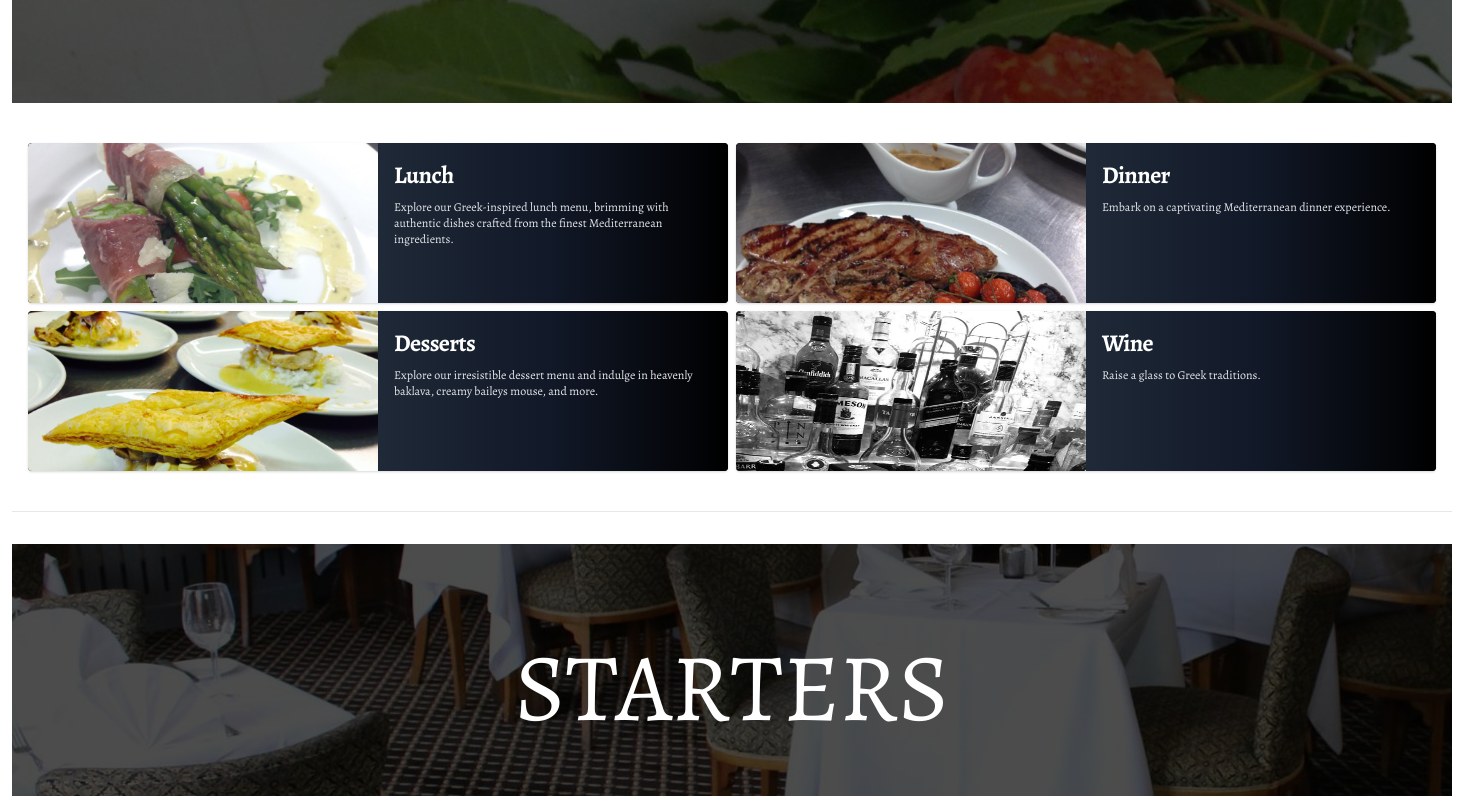
Test: Test all elements are present › Pressing a Menu Button displays the item for that menu › Clicking Dessert displays the items for the dessert menu
The width and height of the screenshot is (1464, 796).
(page scrolled)
Expected: the text "Baileys Chocolate Mousse" is not shown
Click the button with test id "Desserts button": (378, 391) [28,311,728,471]
(page scrolled)
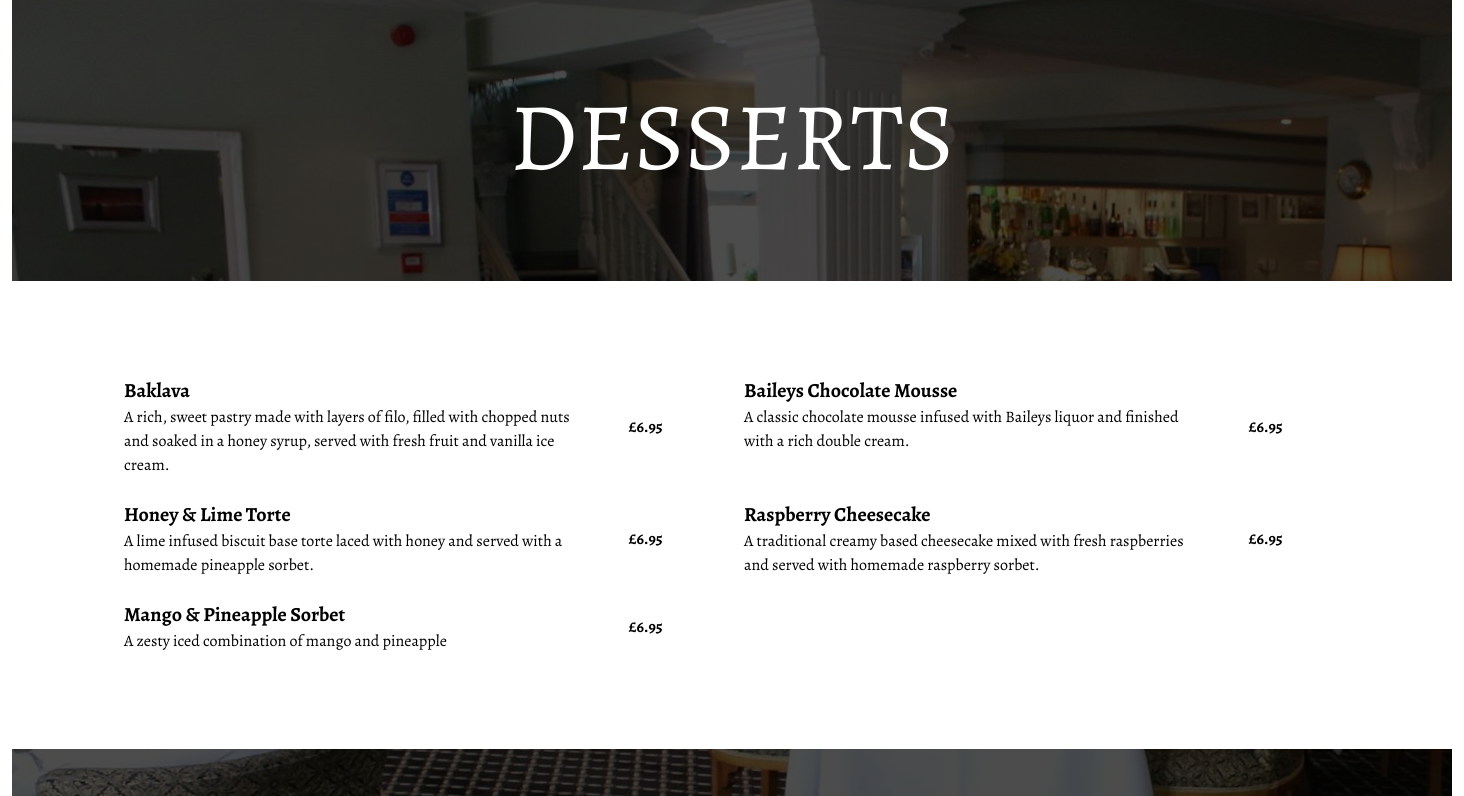
Result: the heading "desserts" is shown at [510,89,954,185]
Result: the heading "Baileys Chocolate Mousse" is shown at [744,377,957,404]
